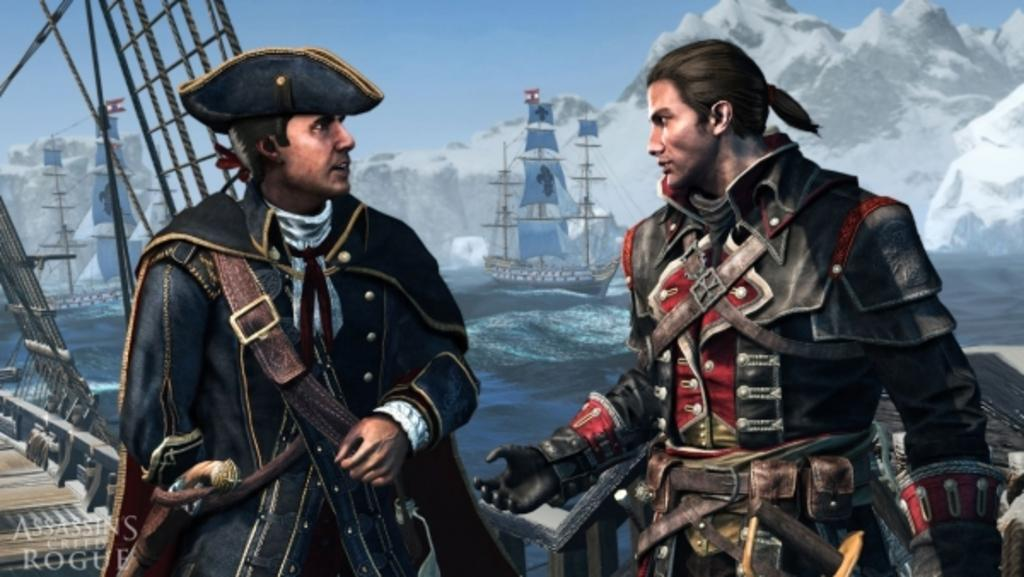Hat: (176, 45, 388, 134)
